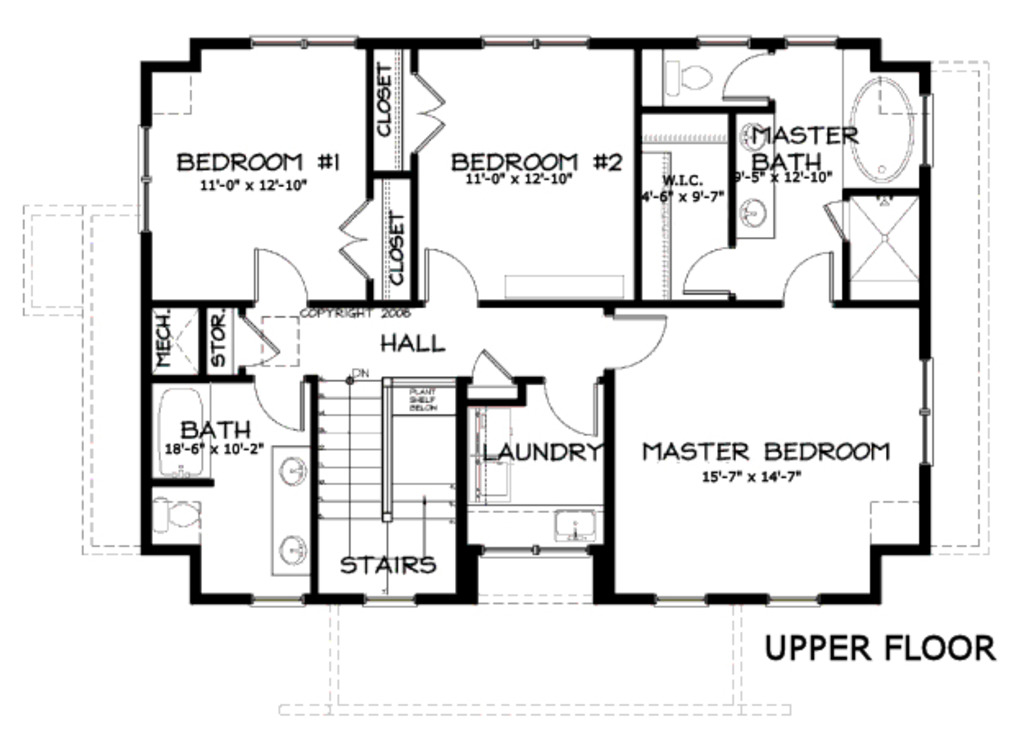door: (241, 368, 324, 438), (415, 230, 484, 314), (249, 239, 322, 318), (536, 374, 610, 451), (673, 238, 740, 308), (773, 248, 851, 307), (409, 65, 449, 180), (602, 307, 670, 372), (715, 41, 782, 104), (340, 189, 376, 282), (471, 341, 512, 384)
large_sink: (634, 35, 718, 111), (149, 487, 214, 551)
small_sink: (273, 437, 310, 575), (739, 111, 769, 239)
stairs: (323, 370, 456, 591)
tub: (155, 382, 216, 481)
window: (470, 25, 594, 55), (132, 124, 160, 236), (915, 350, 941, 464), (359, 585, 424, 615), (242, 31, 362, 47), (648, 586, 706, 618), (234, 591, 312, 611), (698, 30, 759, 50), (776, 32, 840, 47), (762, 592, 829, 606)
